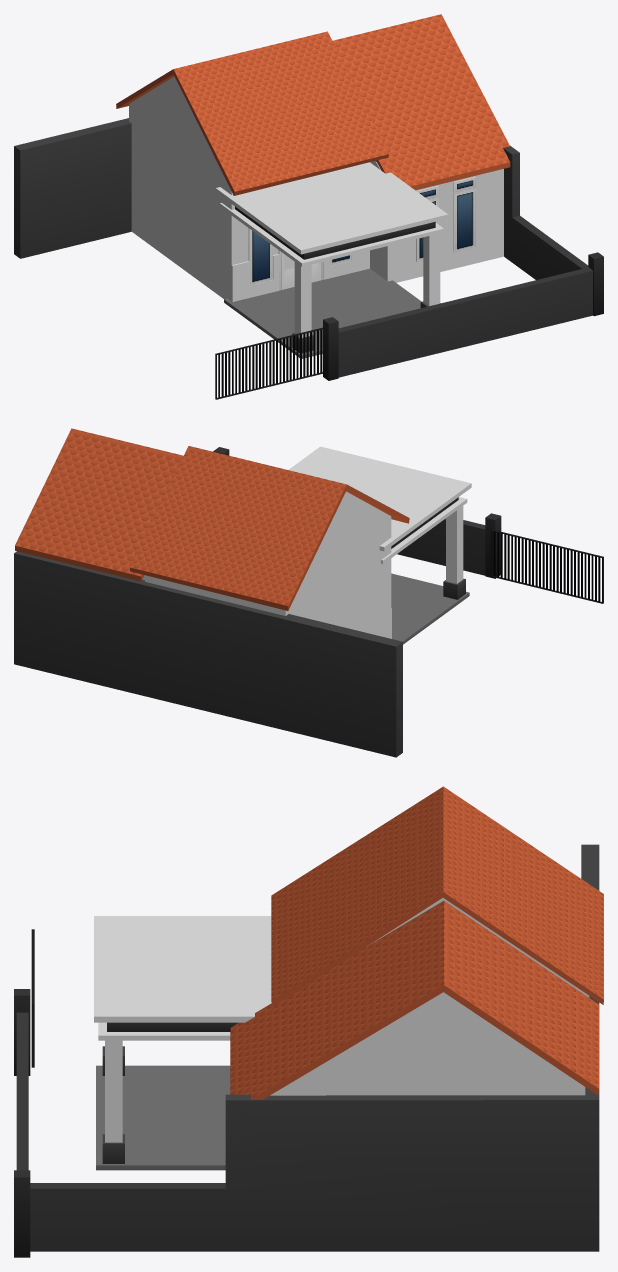
File: NPCRumah3.fbx
3 renders of one model, top to bottom at view 1: azimuth 30°, elevation 25°; view 2: azimuth 150°, elevation 25°; view 3: azimuth 270°, elevation 25°, orthographic. The views are drawn at different scales.
Parts seen in each view (by area): view 1: Body1NPC3_LOD0, Atap2NPC3_LOD0, WallNPC3, Door1NPC3_LOD0, GateNPC3, TiangNPC3_LOD0, Body2NPC3_LOD0; view 2: WallNPC3, Atap2NPC3_LOD0, Body1NPC3_LOD0, GateNPC3, TiangNPC3_LOD0; view 3: WallNPC3, Atap2NPC3_LOD0, Body1NPC3_LOD0, TiangNPC3_LOD0.
Boxes of the visible parts, x1,y1,x2,y2 form: Body1NPC3_LOD0: (129,76,503,358); Atap2NPC3_LOD0: (116,14,510,195); WallNPC3: (14,118,603,380); Door1NPC3_LOD0: (248,176,475,290); GateNPC3: (215,327,322,399); TiangNPC3_LOD0: (292,233,440,353); Body2NPC3_LOD0: (231,250,369,301); WallNPC3: (14,447,501,757); Atap2NPC3_LOD0: (15,428,409,610); Body1NPC3_LOD0: (142,446,471,644); GateNPC3: (490,529,603,603); TiangNPC3_LOD0: (443,506,465,599); WallNPC3: (14,844,599,1257); Atap2NPC3_LOD0: (230,786,603,1099); Body1NPC3_LOD0: (94,898,589,1170); TiangNPC3_LOD0: (102,1040,124,1163).
Size of what is drawn, in the model's own units: 2748 by 1380 by 2624.
